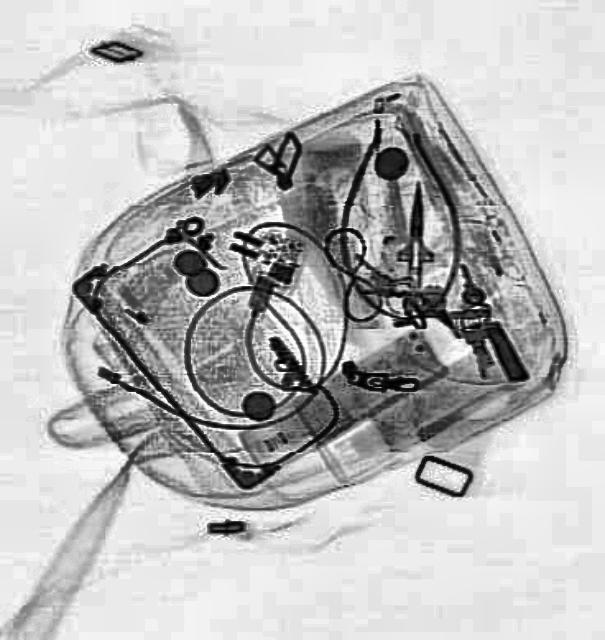Knife: (395, 179, 435, 285)
